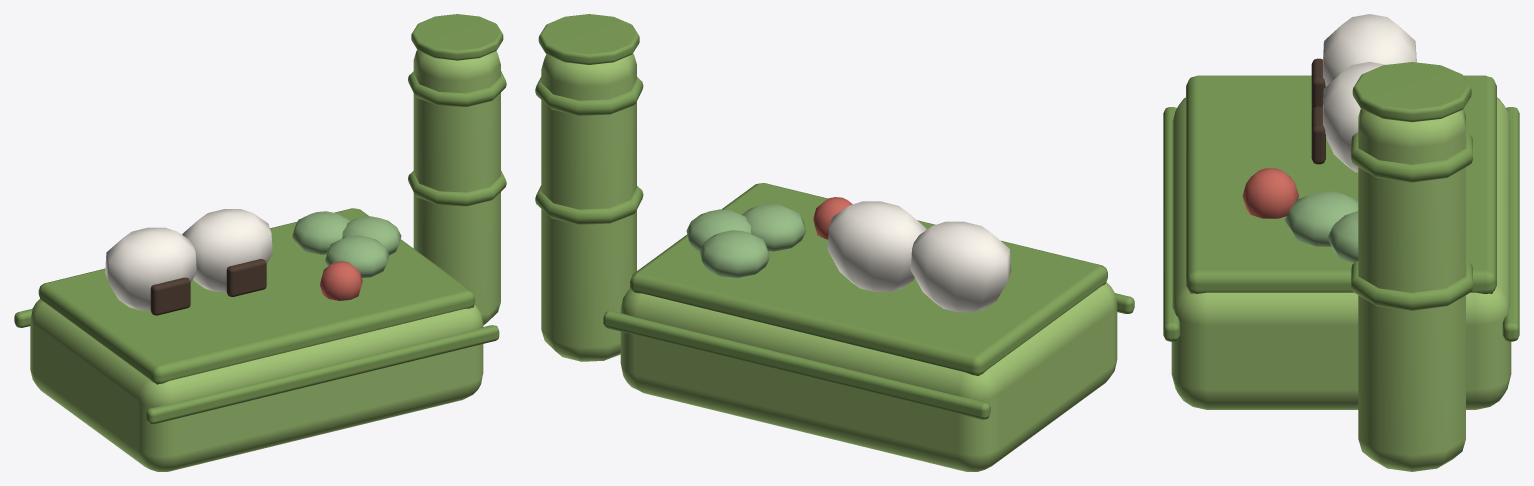
Rendered from bamboo_lunch_basket.glb.
3 views of the same model, side by side, from view 1: azimuth 30°, elevation 25°; view 2: azimuth 150°, elevation 25°; view 3: azimuth 270°, elevation 25° (orthographic). The views are drawn at different scales.
Visible parts, largest first — view 1: bamboo_lunch_basket_mesh; view 2: bamboo_lunch_basket_mesh; view 3: bamboo_lunch_basket_mesh.
Part boxes in pixels (bbox=[...]): bamboo_lunch_basket_mesh: bbox=[14, 14, 506, 471]; bamboo_lunch_basket_mesh: bbox=[535, 14, 1134, 471]; bamboo_lunch_basket_mesh: bbox=[1163, 14, 1519, 471].
Size of the model in its own units: 0.4702 by 0.29 by 0.252.
